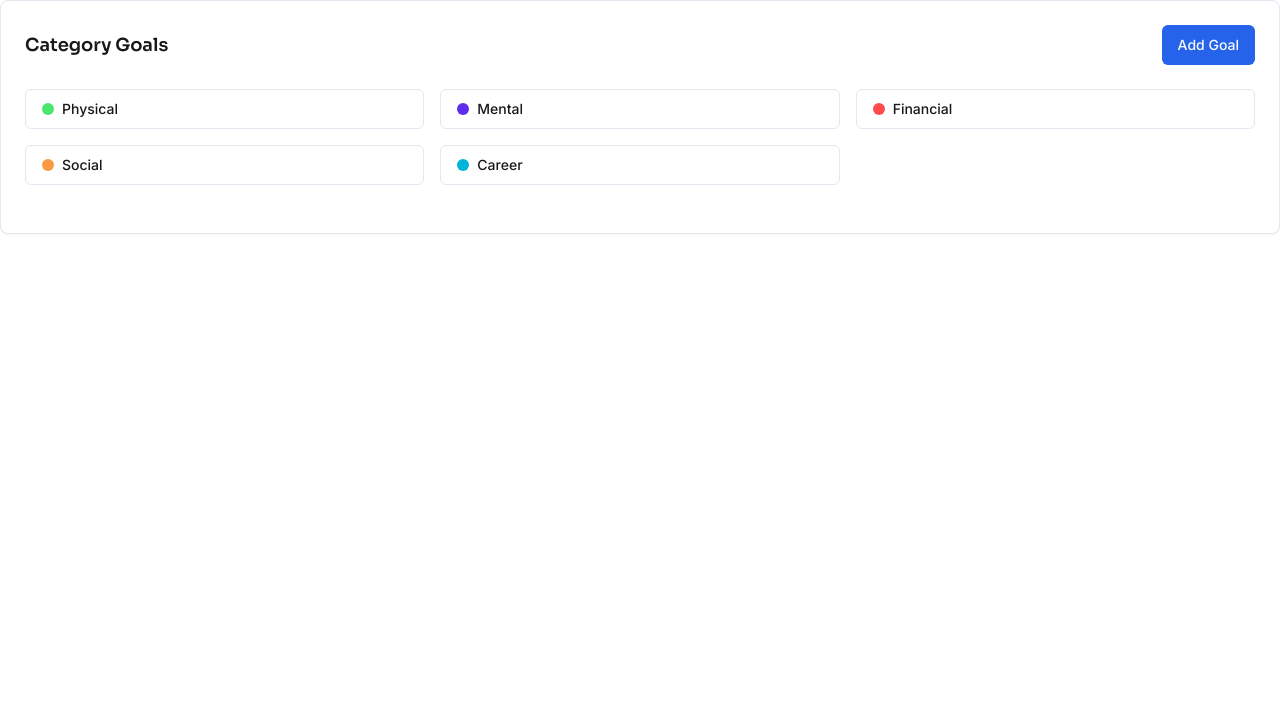
Test: CategoryGoals › opens add goal form when add button is clicked
Click the button "Add Goal".
click(1208, 45)  # box 1162,25 -> 1255,65
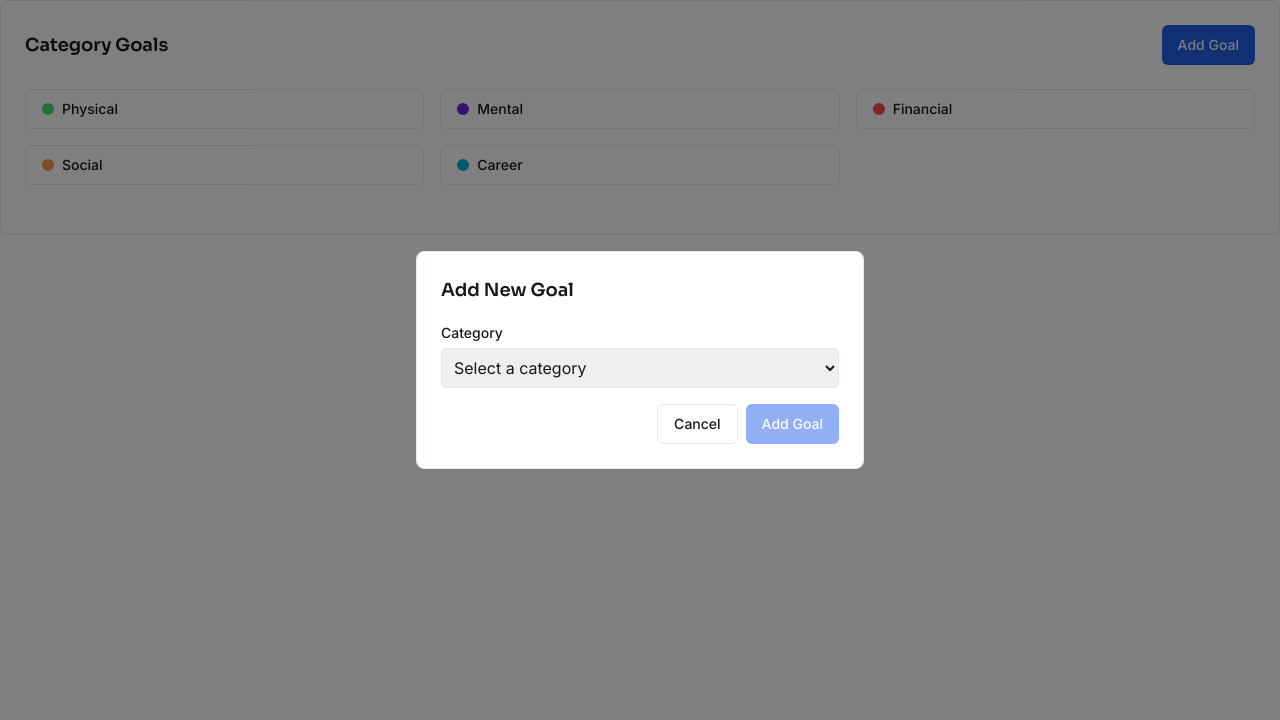
Expected: the heading "Add New Goal" is shown, 441,279 -> 574,301
Expected: the dropdown named "Select a category" is shown, 441,348 -> 839,388
